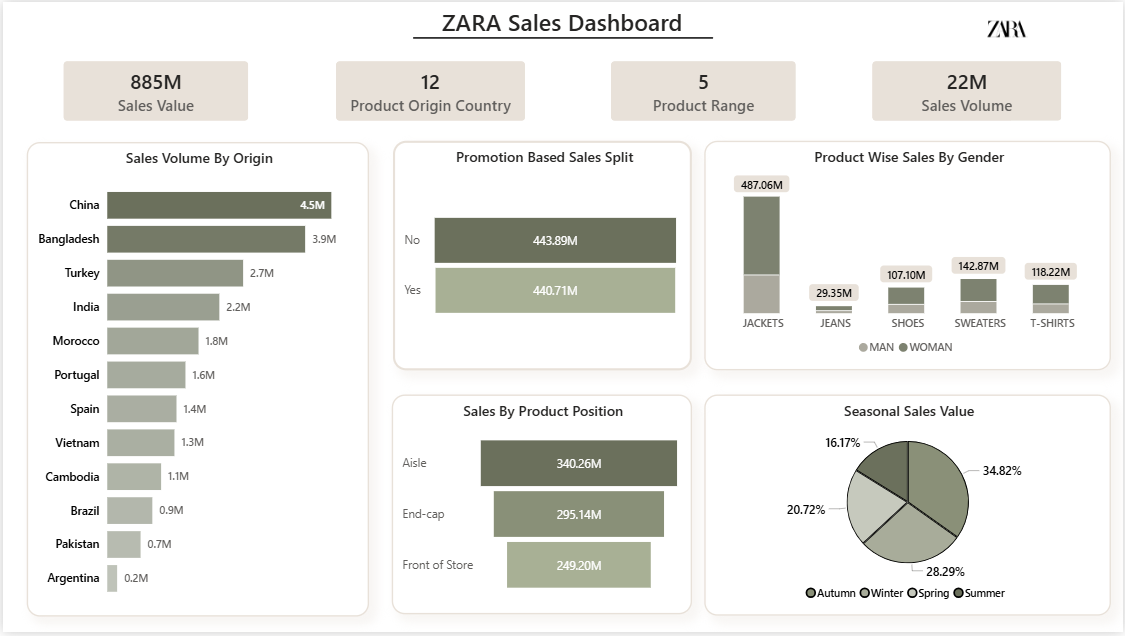

Layout of this report page (visuals, bound fields, positions):
{"tool":"powerbi","page":{"name":"Dashboard","canvas":[1280,720],"ordinal":0},"visuals":[{"type":"textbox","box":[446,0,387,56.3],"z":0},{"type":"cardVisual","fields":{"Data":["Sum(Zara_sales_EDA.Sales Value)"]},"box":[63.8,62.3,221.7,78.3],"z":0,"group":"g1"},{"type":"image","box":[1015.4,0,264.8,61.7],"z":1000},{"type":"cardVisual","fields":{"Data":["Sum(Zara_sales_EDA.Sales Volume)"]},"box":[988.4,62.3,226.1,78.3],"z":1000,"group":"g1"},{"type":"cardVisual","fields":{"Data":["Count(Zara_sales_EDA.origin)"]},"box":[375.4,62.3,226.1,78.3],"z":2000,"group":"g1"},{"type":"columnChart","title":"Product Wise Sales By Gender","fields":{"Category":["Zara_sales_EDA.terms"],"Series":["Zara_sales_EDA.section"],"Y":["Sum(Zara_sales_EDA.Sales Value)"]},"box":[801.4,159.2,465.2,262.1],"z":2000},{"type":"shape","box":[467.9,31.6,343.1,19.2],"z":3000},{"type":"cardVisual","fields":{"Data":["Count(Zara_sales_EDA.terms)"]},"box":[689.9,62.3,221.7,78.3],"z":3000,"group":"g1"},{"type":"clusteredBarChart","title":"Sales Volume By Origin","fields":{"Category":["Zara_sales_EDA.origin"],"Y":["Sum(Zara_sales_EDA.Sales Volume)"]},"box":[27.5,159.4,391.3,542],"z":4000},{"type":"pieChart","title":"Seasonal Sales Value","fields":{"Category":["Zara_sales_EDA.season"],"Y":["Sum(Zara_sales_EDA.Sales Value)"]},"box":[801.4,448.7,465.2,252.5],"z":5000},{"type":"funnel","title":"Sales By Product Position","fields":{"Y":["Sum(Zara_sales_EDA.Sales Value)"],"Category":["Zara_sales_EDA.Product Position"]},"box":[444.6,448.7,343.1,251.1],"z":6000},{"type":"funnel","title":"Promotion Based Sales Split","fields":{"Category":["Zara_sales_EDA.Promotion"],"Y":["Sum(Zara_sales_EDA.Sales Value)"]},"box":[446,159.2,341.7,262.1],"z":7000},{"type":"group","id":"g1","title":"Group 1","box":[63.8,62.3,1150.7,78.3],"z":8000}]}

Visuals, with their boxes in screenshot pixels (x1, y1, x2, y2), scaled from the page's 1280x720 canvas onto the 1125x636 screenshot:
textbox: box=[392, 0, 732, 50]
cardVisual - Sum(Zara_sales_EDA.Sales Value): box=[56, 55, 251, 124]
image: box=[892, 0, 1124, 55]
cardVisual - Sum(Zara_sales_EDA.Sales Volume): box=[869, 55, 1067, 124]
cardVisual - Count(Zara_sales_EDA.origin): box=[330, 55, 529, 124]
"Product Wise Sales By Gender" columnChart: box=[704, 141, 1113, 372]
shape: box=[411, 28, 713, 45]
cardVisual - Count(Zara_sales_EDA.terms): box=[606, 55, 801, 124]
"Sales Volume By Origin" clusteredBarChart: box=[24, 141, 368, 620]
"Seasonal Sales Value" pieChart: box=[704, 396, 1113, 619]
"Sales By Product Position" funnel: box=[391, 396, 692, 618]
"Promotion Based Sales Split" funnel: box=[392, 141, 692, 372]
"Group 1" group: box=[56, 55, 1067, 124]
